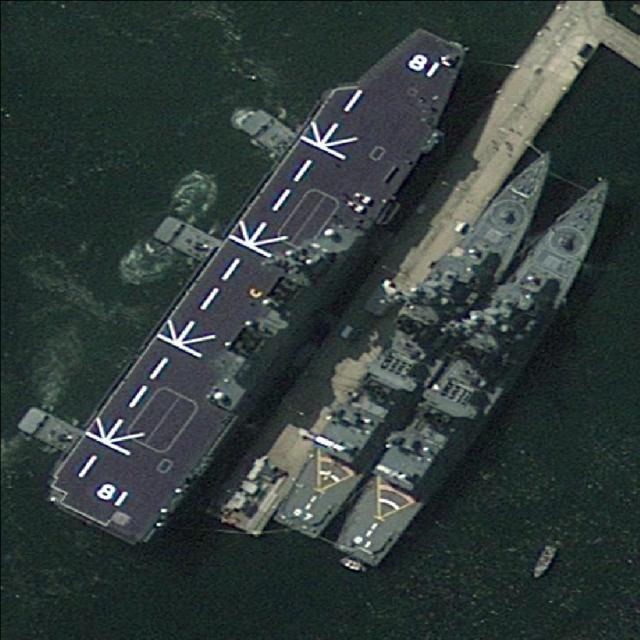Destroyer: (39, 1, 492, 562), (318, 158, 638, 584), (259, 131, 577, 551)
